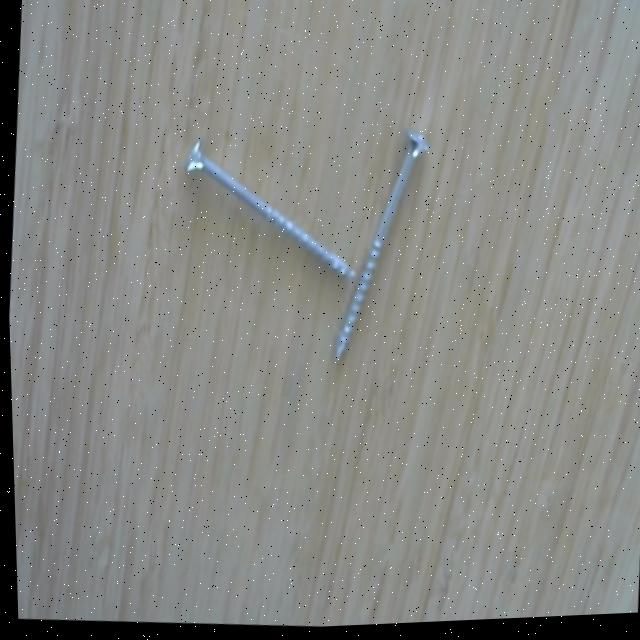Long screw: (174, 133, 361, 294), (326, 129, 437, 370)
